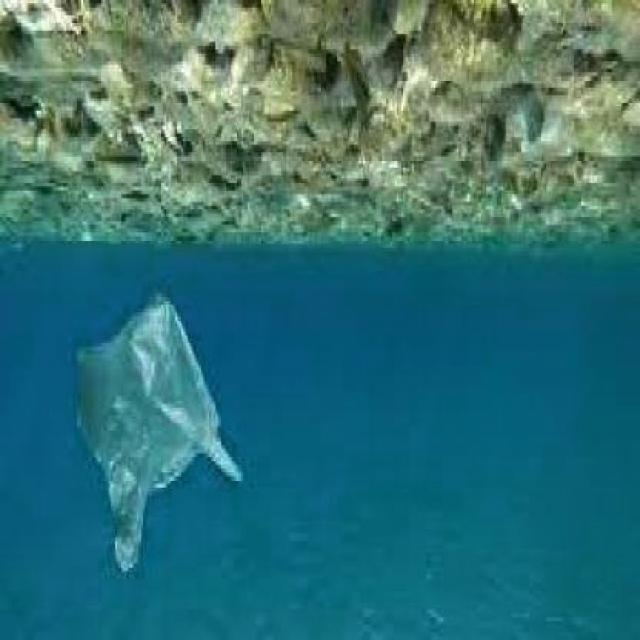pbag: (72, 290, 243, 579)
